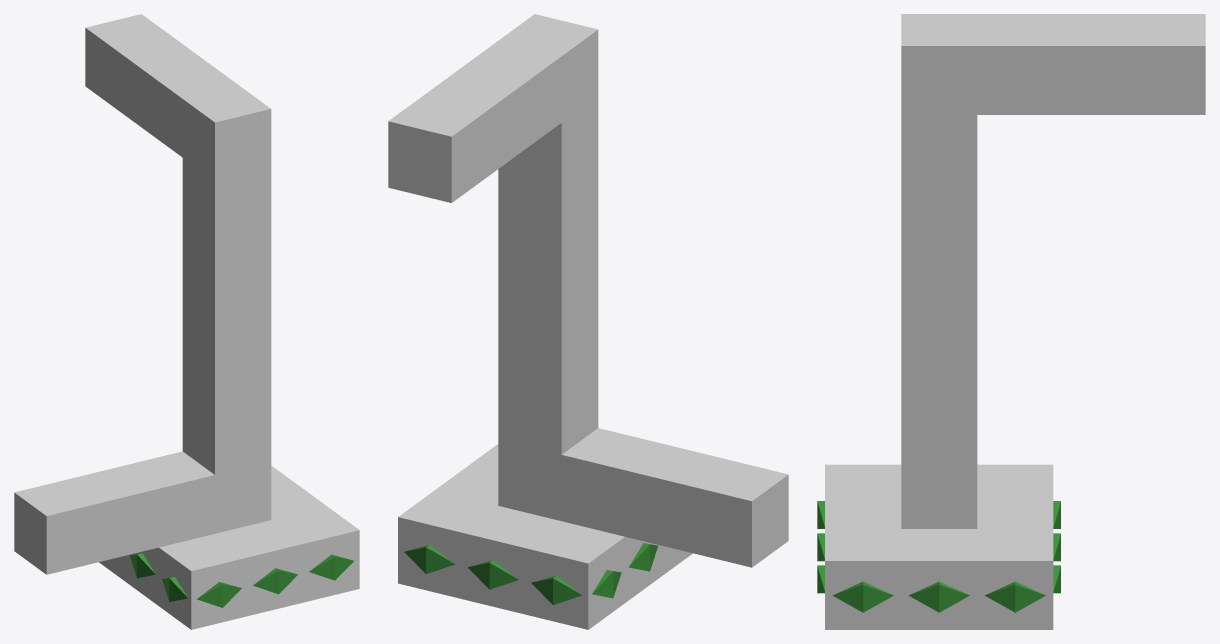
File: s2 turn2.FBX
3 views of the same model, side by side, from view 1: azimuth 30°, elevation 25°; view 2: azimuth 150°, elevation 25°; view 3: azimuth 270°, elevation 25° (orthographic). The views are drawn at different scales.
Parts seen in each view (by area): view 1: Box002, Box092, Group001; view 2: Box002, Box092, Group001; view 3: Box002, Box092, Group001.
Boxes of the visible parts, x1,y1,x2,y2 form: Box002: [14, 14, 271, 574]; Box092: [99, 465, 359, 629]; Group001: [129, 553, 353, 607]; Box002: [388, 14, 788, 567]; Box092: [398, 444, 692, 629]; Group001: [404, 543, 657, 604]; Box002: [901, 14, 1205, 528]; Box092: [825, 464, 1053, 629]; Group001: [817, 501, 1060, 612].
Bounding box in the file's own units: 510 × 800 × 510.
